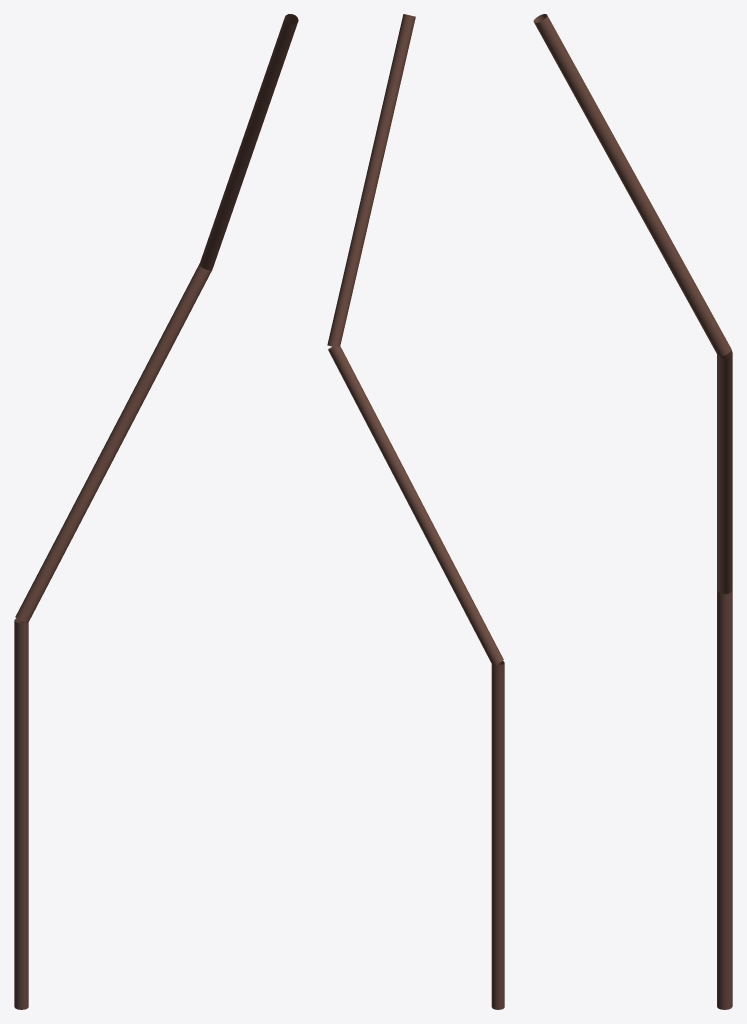
Rendered from bent-chain.gltf.
The picture shows the model from 3 angles, left to right: view 1: azimuth 30°, elevation 25°; view 2: azimuth 150°, elevation 25°; view 3: azimuth 270°, elevation 25°; orthographic projection. The views are drawn at different scales.
Bounding box in the file's own units: 0.5338 × 2.61 × 0.432.
